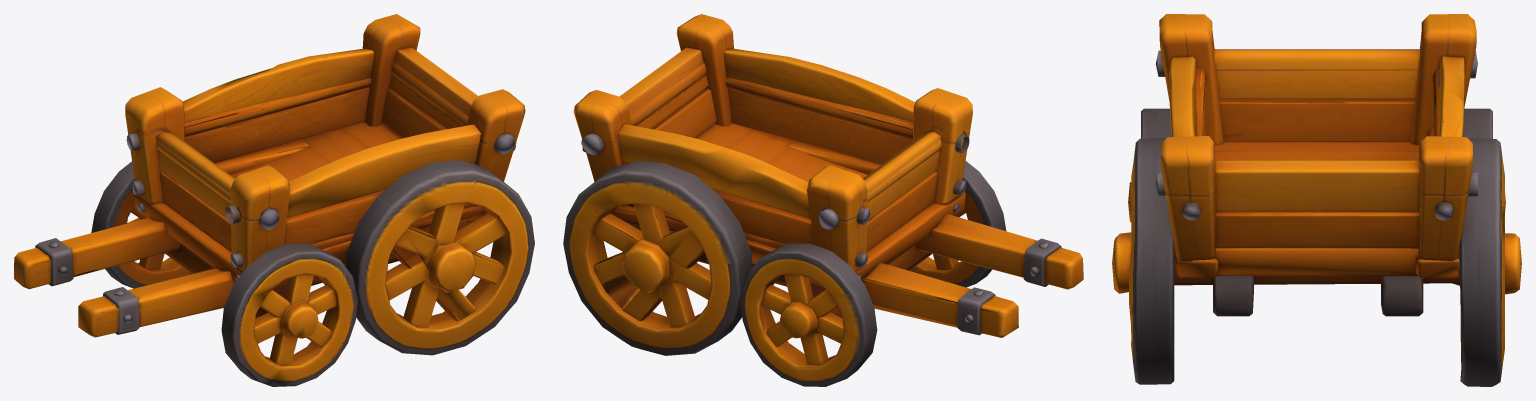
File: cart_colored.glb
The picture shows the model from 3 angles, left to right: view 1: azimuth 30°, elevation 25°; view 2: azimuth 150°, elevation 25°; view 3: azimuth 270°, elevation 25°; orthographic projection. The views are drawn at different scales.
Parts seen in each view (by area): view 1: geometry_0; view 2: geometry_0; view 3: geometry_0.
Boxes of the visible parts, left/top/right/bottom form: geometry_0: left=14, top=14, right=534, bottom=386; geometry_0: left=563, top=14, right=1083, bottom=386; geometry_0: left=1112, top=14, right=1521, bottom=386.
Size of the model in its own units: 0.9575 by 0.4893 by 0.6636.
1 material, 1 textured.
